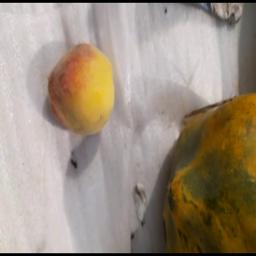Peach Semifresh: (26, 28, 116, 139)
